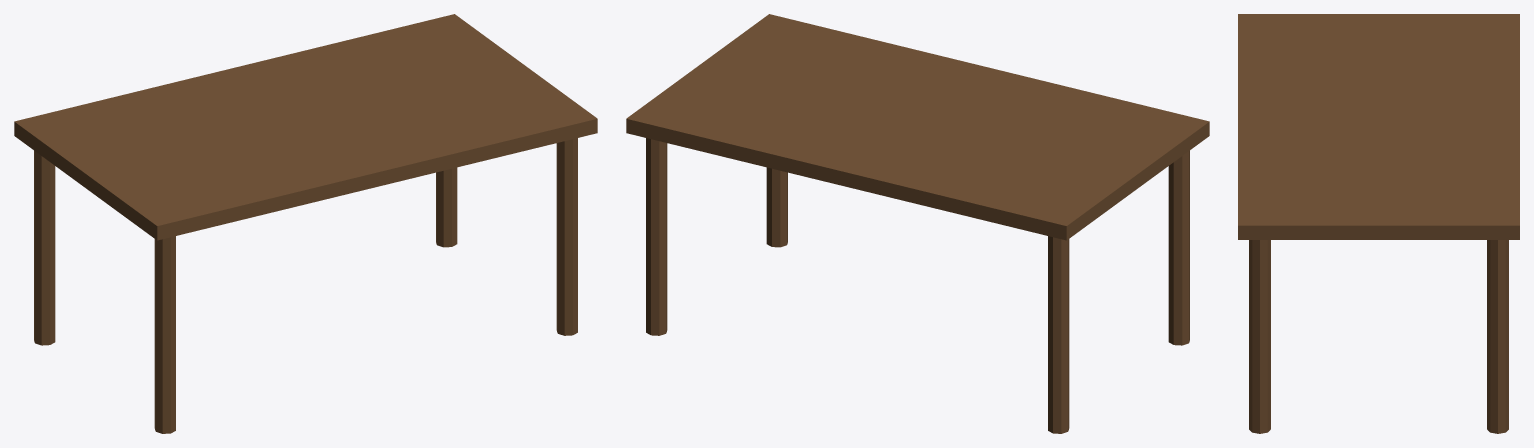
The model's file is dining table.glb.
3 views of the same model, side by side, from view 1: azimuth 30°, elevation 25°; view 2: azimuth 150°, elevation 25°; view 3: azimuth 270°, elevation 25° (orthographic).
Visible parts, largest first — view 1: dining table; view 2: dining table; view 3: dining table.
Boxes of the visible parts, x1=… form: dining table: x1=14, y1=14, x2=597, y2=433; dining table: x1=626, y1=14, x2=1209, y2=433; dining table: x1=1238, y1=14, x2=1519, y2=433.
Bounding box in the file's own units: 1.6 × 0.75 × 0.9.
